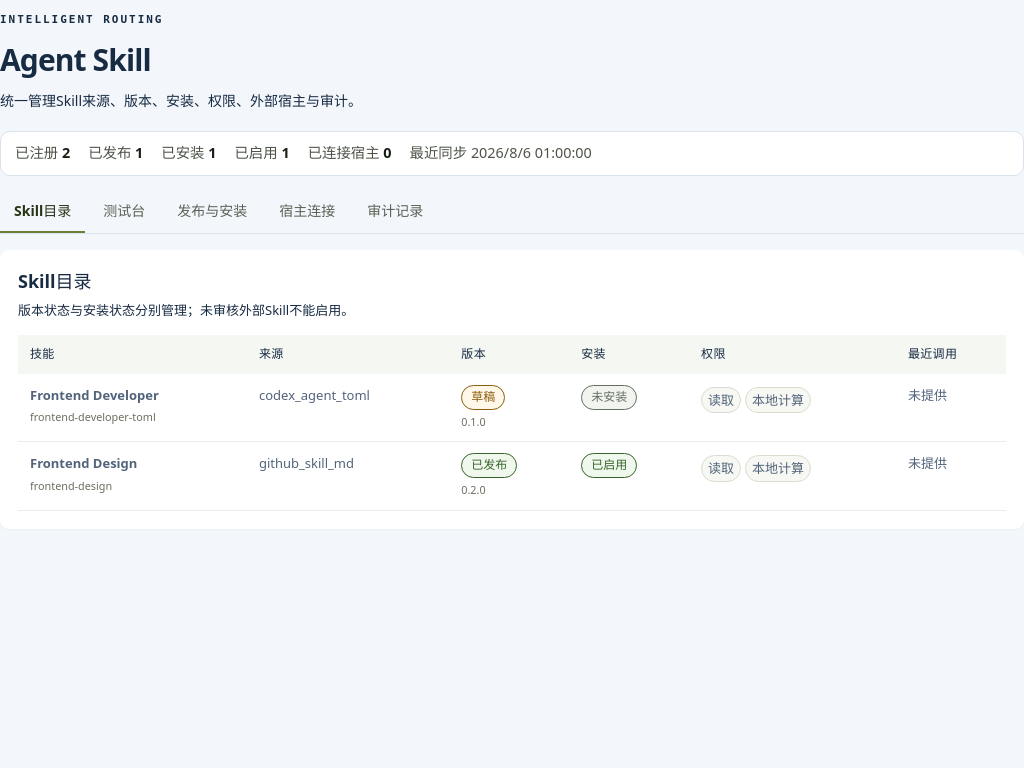
Test: Agent Skill management UI › disables invocation for a draft Skill and explains the lifecycle gate
Click the button "测试台": (124,212) left=89, top=190, right=159, bottom=233
(page scrolled)
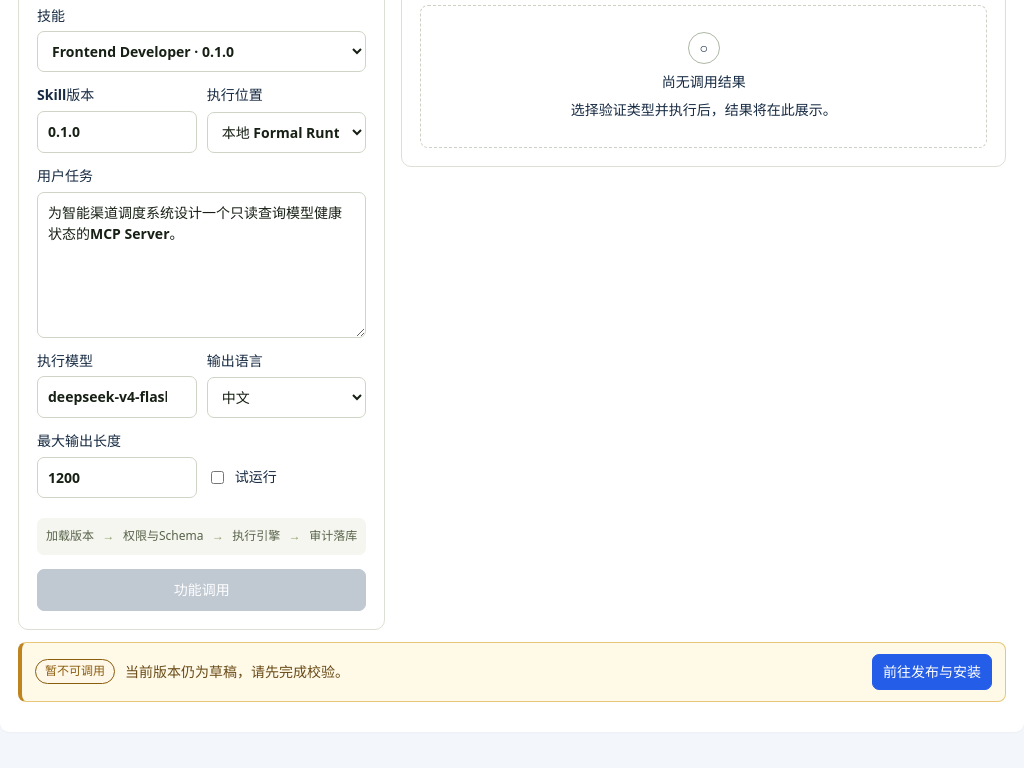
Check: the button "功能调用" is disabled, box left=37, top=569, right=366, bottom=611
Check: the text "当前版本仍为草稿，请先完成校验。" is shown, box left=125, top=662, right=349, bottom=681
